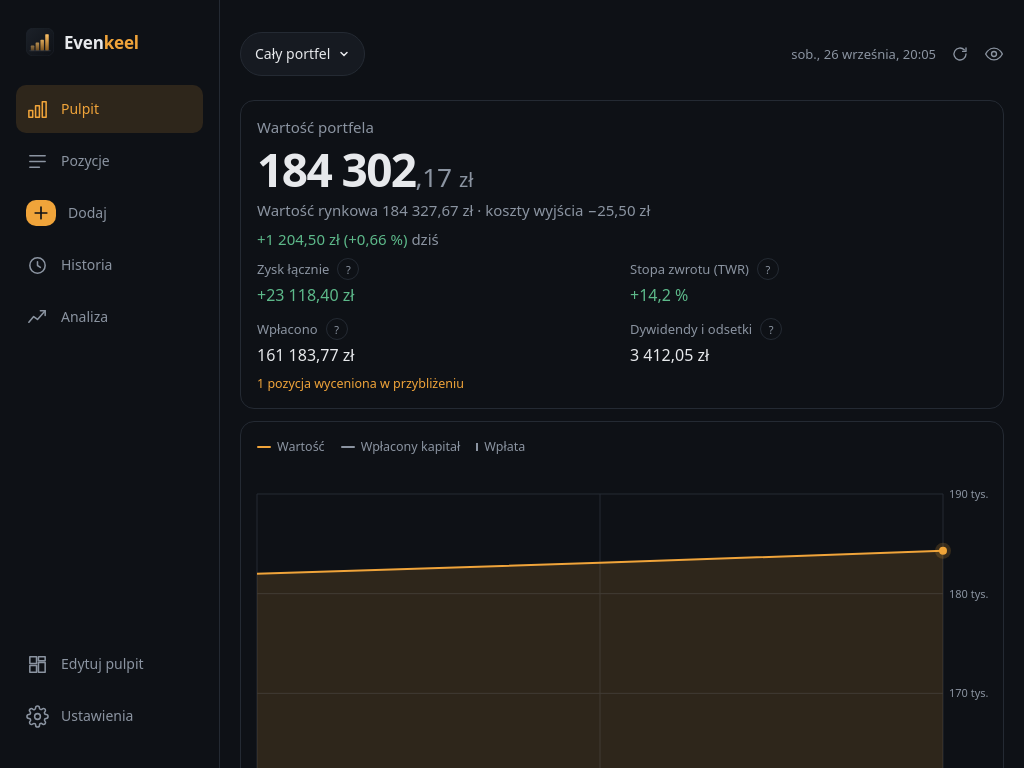
Test case: dashboard screen › explains the stats behind their question marks
Click the button named "Co to jest: Stopa zwrotu (TWR)" at [768, 269], box [757,258,779,280]
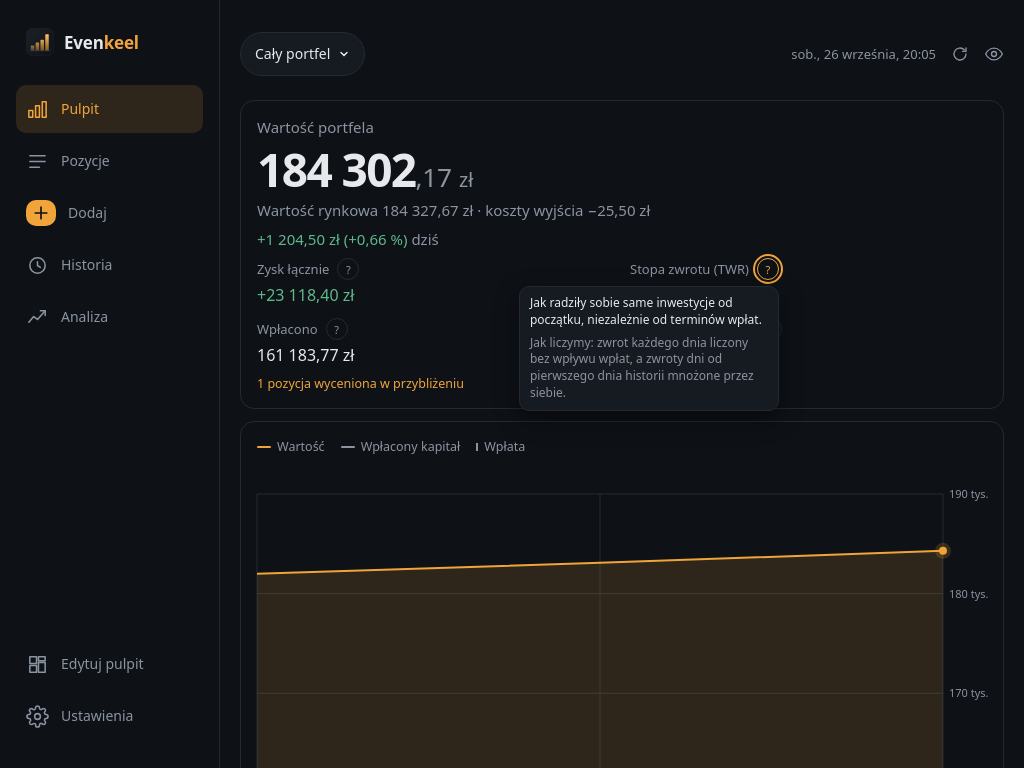
Result: the tooltip shows "Jak liczymy: zwrot każdego dnia" at [519,286,779,411]
